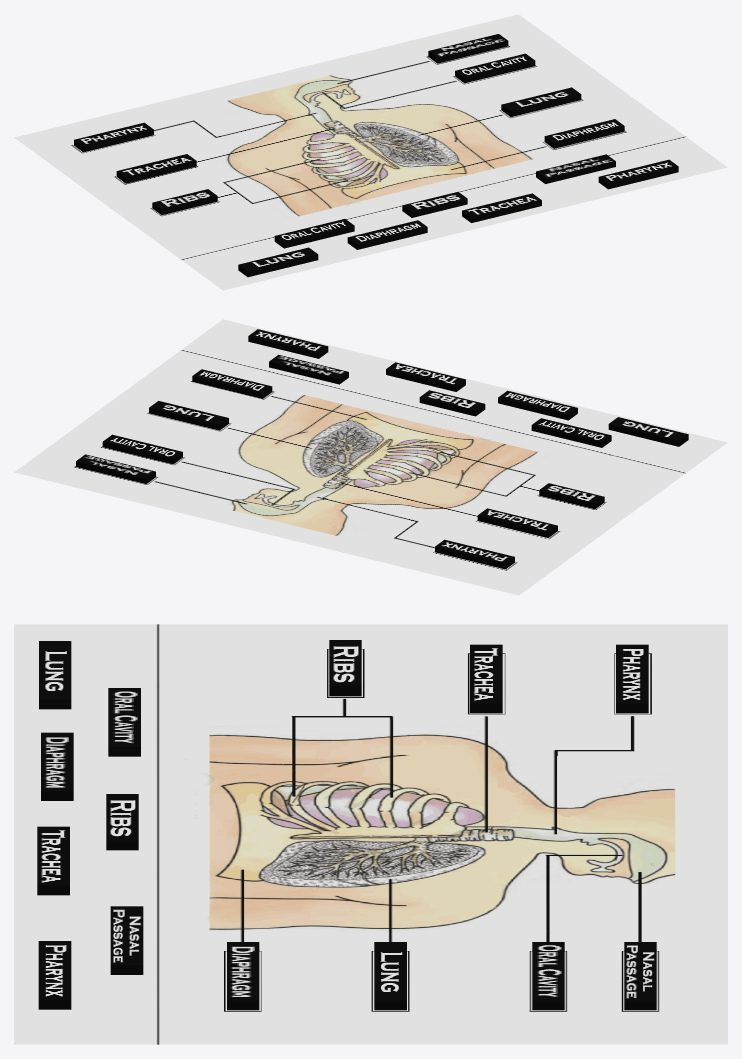
Rendered from Level 4.fbx.
The picture shows the model from 3 angles, top to bottom: view 1: azimuth 30°, elevation 25°; view 2: azimuth 150°, elevation 25°; view 3: azimuth 270°, elevation 25°; orthographic projection. The views are drawn at different scales.
Visible parts, largest first — view 1: Image_plane, Oral_cavity (×2), Lung (×2), Diaphragm (×2), Pharynx (×2), Nassal_passage (×2), Trachea (×2), Ribs (×2); view 2: Image_plane, Oral_cavity (×2), Trachea (×2), Lung (×2), Diaphragm (×2), Pharynx (×2), Nassal_passage (×2), Ribs (×2); view 3: Image_plane, Pharynx (×2), Nassal_passage (×2), Trachea (×2), Oral_cavity (×2), Lung (×2), Diaphragm (×2), Ribs (×2).
Boxes of the visible parts, bbox=[...] form: Image_plane: bbox=[14, 14, 727, 290]; Oral_cavity (×2): bbox=[274, 53, 535, 248]; Lung (×2): bbox=[238, 87, 581, 277]; Diaphragm (×2): bbox=[347, 119, 624, 249]; Pharynx (×2): bbox=[74, 122, 678, 189]; Nassal_passage (×2): bbox=[428, 34, 615, 183]; Trachea (×2): bbox=[116, 154, 541, 222]; Ribs (×2): bbox=[152, 189, 467, 217]; Image_plane: bbox=[14, 319, 727, 595]; Oral_cavity (×2): bbox=[102, 418, 611, 464]; Trachea (×2): bbox=[386, 362, 557, 537]; Lung (×2): bbox=[149, 401, 688, 446]; Diaphragm (×2): bbox=[192, 369, 577, 420]; Pharynx (×2): bbox=[248, 329, 514, 569]; Nassal_passage (×2): bbox=[76, 354, 348, 484]; Ribs (×2): bbox=[419, 390, 604, 509]; Image_plane: bbox=[14, 624, 727, 1044]; Pharynx (×2): bbox=[38, 644, 648, 1009]; Nassal_passage (×2): bbox=[110, 906, 656, 1010]; Trachea (×2): bbox=[37, 644, 502, 895]; Oral_cavity (×2): bbox=[108, 688, 564, 1010]; Lung (×2): bbox=[39, 641, 406, 1010]; Diaphragm (×2): bbox=[41, 732, 259, 1010]; Ribs (×2): bbox=[106, 640, 361, 850].
Bounding box in the file's own units: 1560 × 17.19 × 1119.
Materials: 2 (2 with a texture image).
